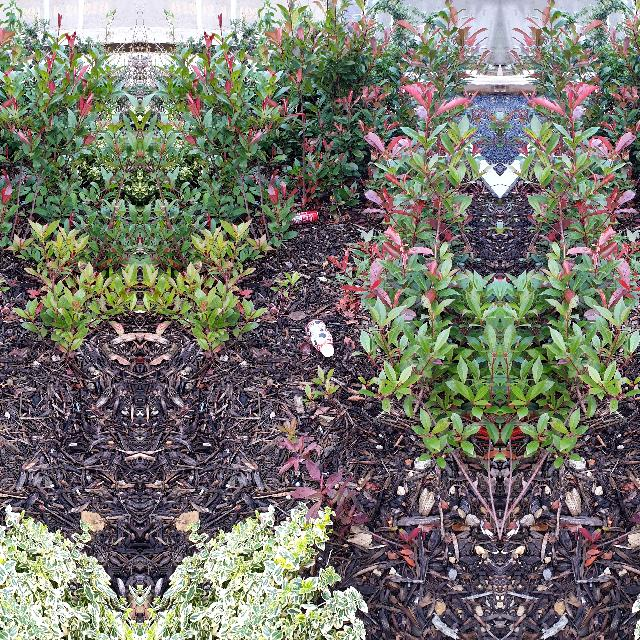Metal: (284, 206, 322, 228)
Plastic: (303, 317, 337, 359)
